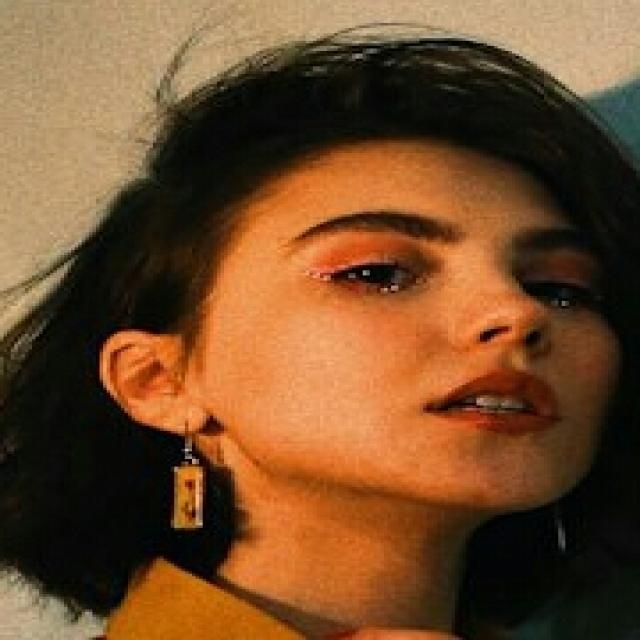front: (315, 208, 594, 486)
